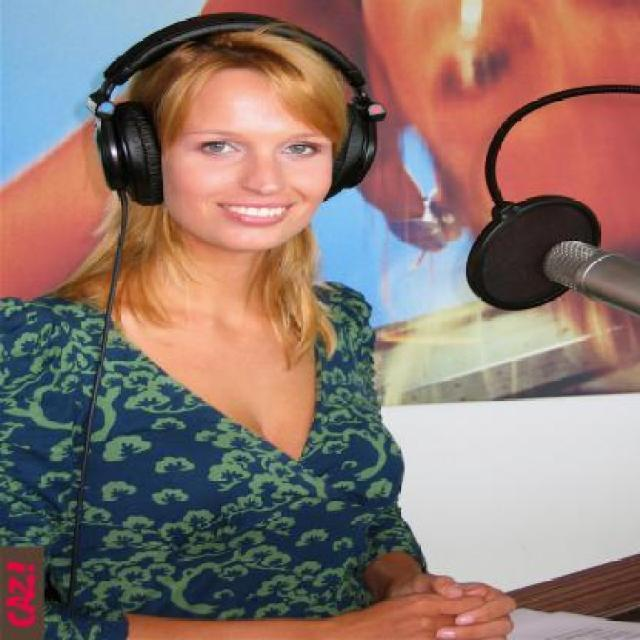earphone: (85, 5, 407, 219)
